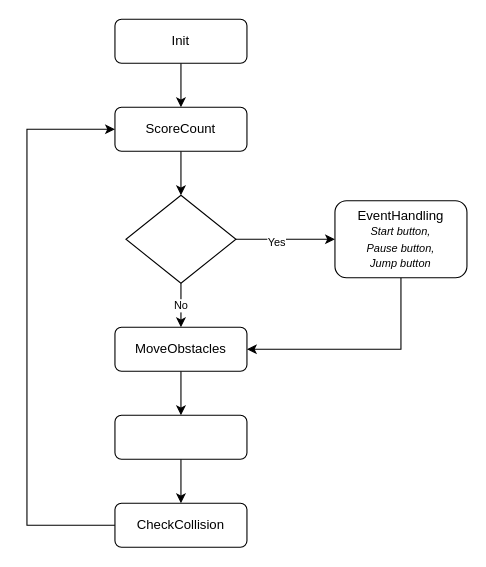
Some shapes in this 486 by 567 pixel diagram are drawn without their labels. The shapes that lost their labels are listed below. From the top down, each one's centre as x and y in pixels, then its label:
At (x=180, y=238): "CheckEvent".
At (x=180, y=436): "MoveTRex".
